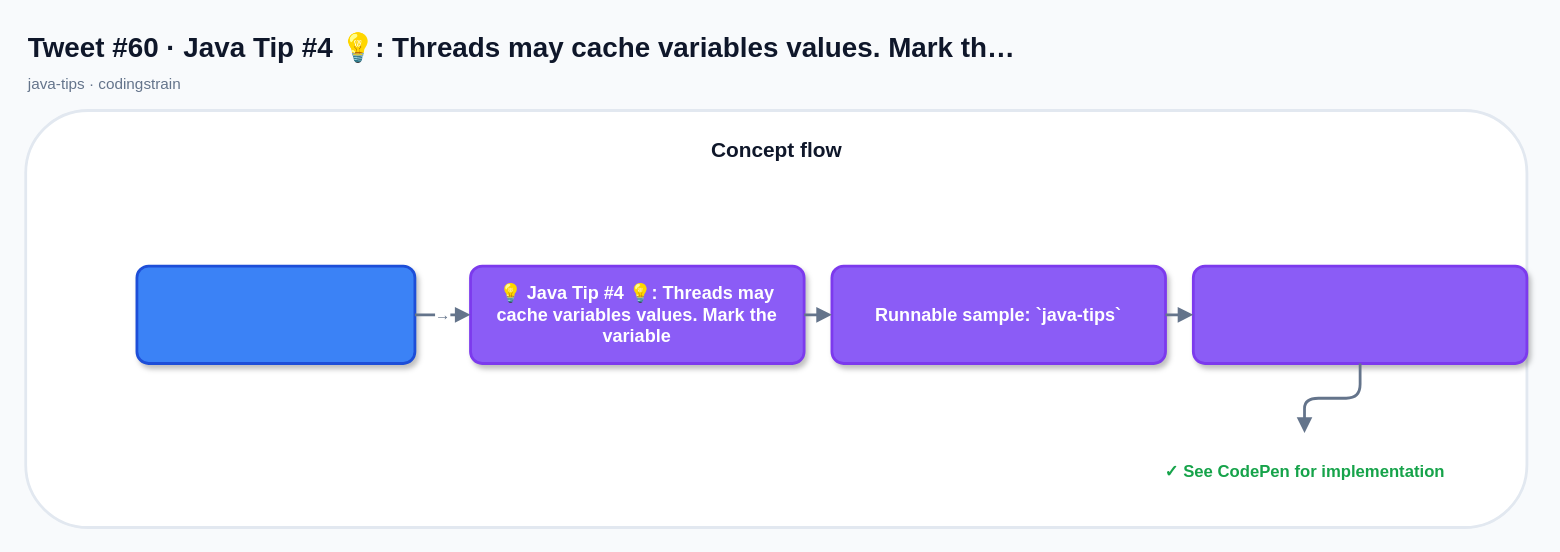
Image size: 1560x552. Some labels were removed from this diagram. Here are the shapes that lost their labels. From the top down, the centre of each, then its label:
point 276,316: Problem / context
point 1361,316: Architecture diagram + Carbon CodePen below
